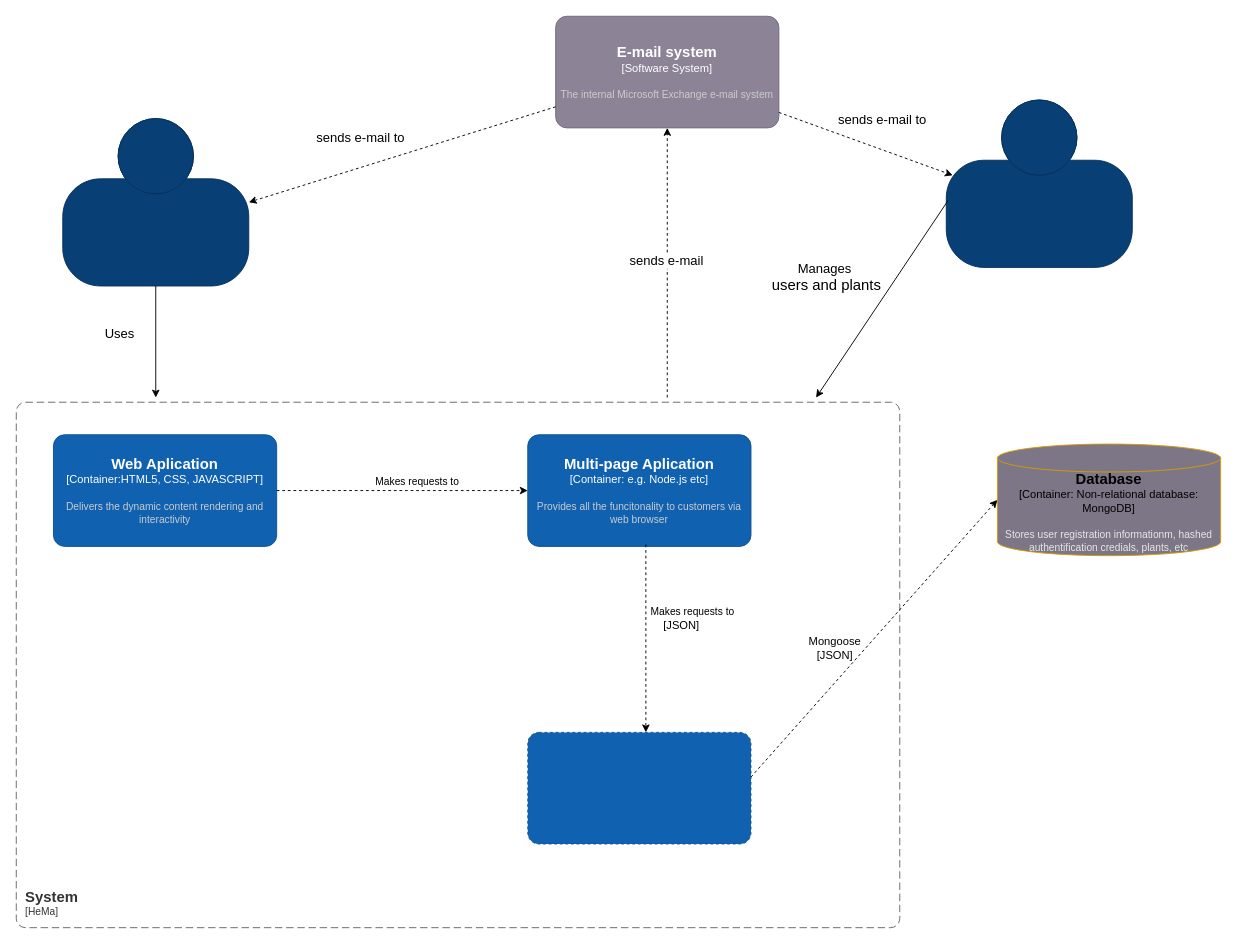
The diagram is 1237 pixels wide and 944 high, and some of its shapes have lost their labels. Here are the shapes that lost their labels. From the top down, the centre of each, then its label:
At [155,202]: "Personal HeMa customer [Person] Client with an account".
At [1038,183]: "Admin [Person] Monitors the users and plants".
At [639,787]: "Rest Api service [Container: Node.js, HTTP] Mongoose and HTTP".
